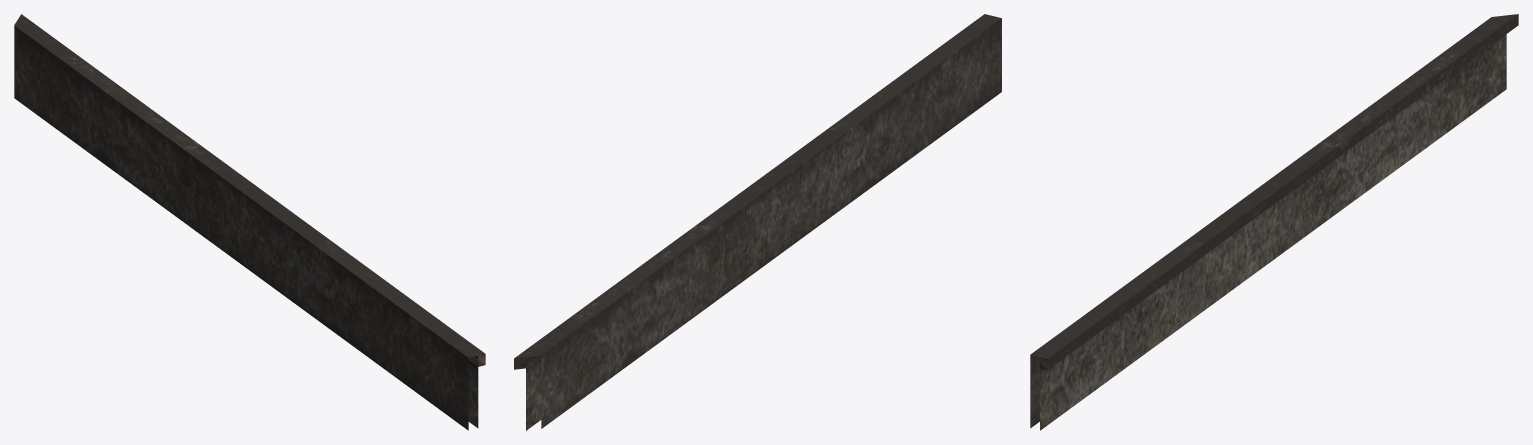
The model's file is Roof_SideWall_04.FBX.
3 views of the same model, side by side, from view 1: azimuth 30°, elevation 25°; view 2: azimuth 150°, elevation 25°; view 3: azimuth 330°, elevation 25° (orthographic).
Parts seen in each view (by area): view 1: Roof_SideWall_04; view 2: Roof_SideWall_04; view 3: Roof_SideWall_04.
Part boxes in pixels (left/top/right/bottom): Roof_SideWall_04: left=14, top=14, right=485, bottom=430; Roof_SideWall_04: left=514, top=14, right=1001, bottom=430; Roof_SideWall_04: left=1030, top=14, right=1518, bottom=430.
Bounding box in the file's own units: 22.66 × 92.93 × 1073.
